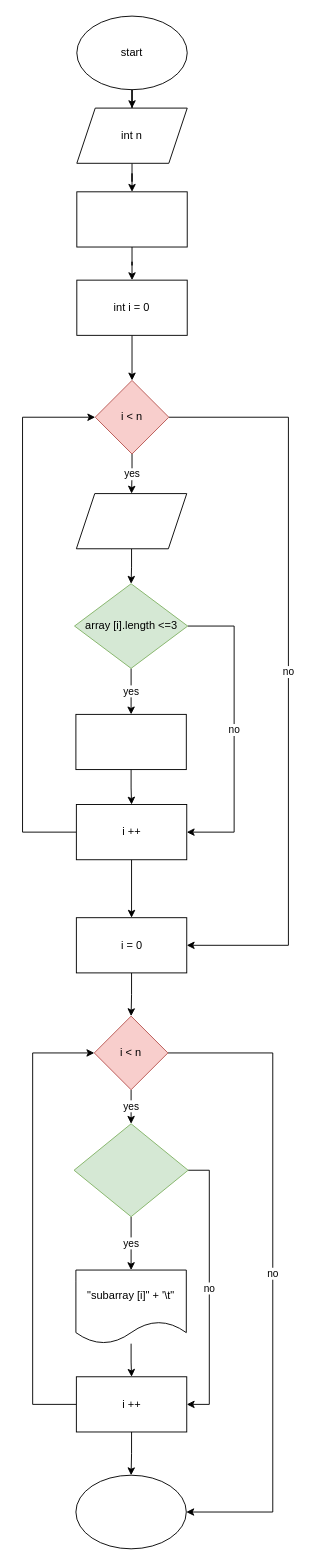
This 312x1565 diagram has some shape labels left out. Here are the shapes that lost their labels. From the top down, the centre of each, then its label:
point 131,219: string[] array string subarray
point 131,521: array [i]
point 130,741: subarray [i] = array [i]
point 130,1170: subarray [i] != null
point 130,1511: finish
